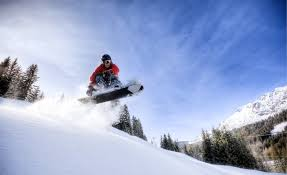snowboard: (75, 81, 144, 107)
